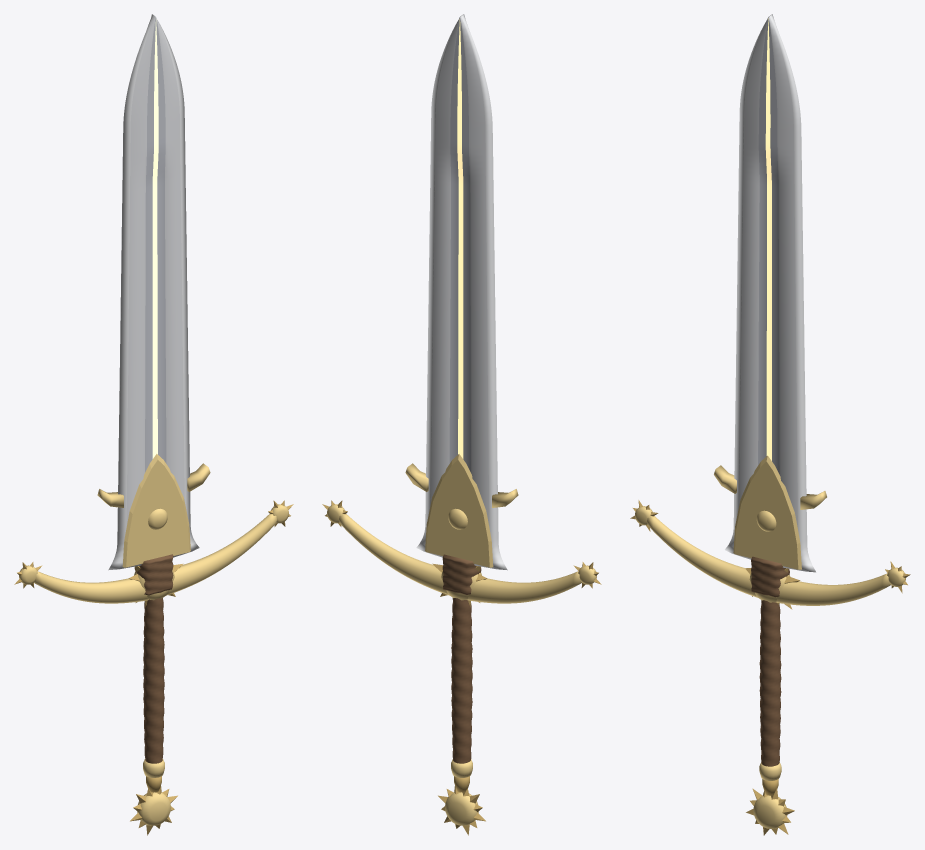
The model's file is heavy_greatsword.glb.
3 renders of one model, left to right at view 1: azimuth 30°, elevation 25°; view 2: azimuth 150°, elevation 25°; view 3: azimuth 330°, elevation 25°, orthographic.
Visible parts, largest first — view 1: heavy_greatsword; view 2: heavy_greatsword; view 3: heavy_greatsword.
Boxes of the visible parts, x1,y1,x2,y2 form: heavy_greatsword: [14, 14, 293, 835]; heavy_greatsword: [322, 14, 601, 835]; heavy_greatsword: [630, 14, 910, 835].
Size of the model in its own units: 0.7219 by 2.02 by 0.0648.
